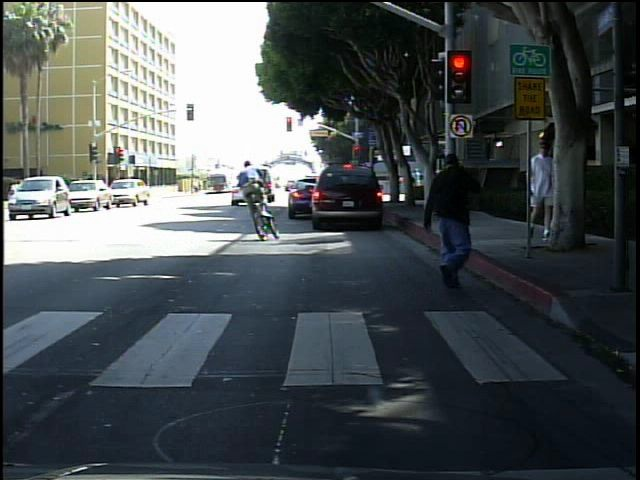person: (419, 149, 485, 296), (216, 148, 278, 232), (518, 136, 558, 242), (542, 139, 578, 244)
